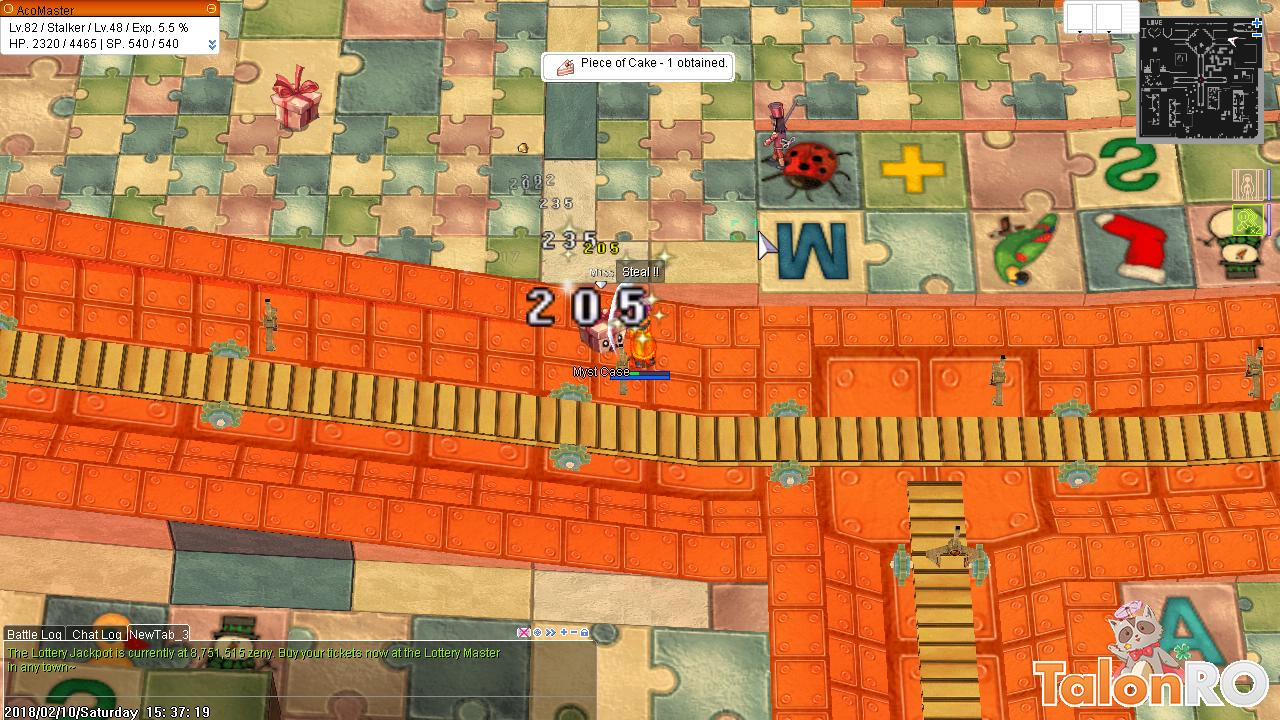mob: (750, 95, 801, 173)
myst_case: (265, 60, 327, 137), (578, 319, 623, 352)
